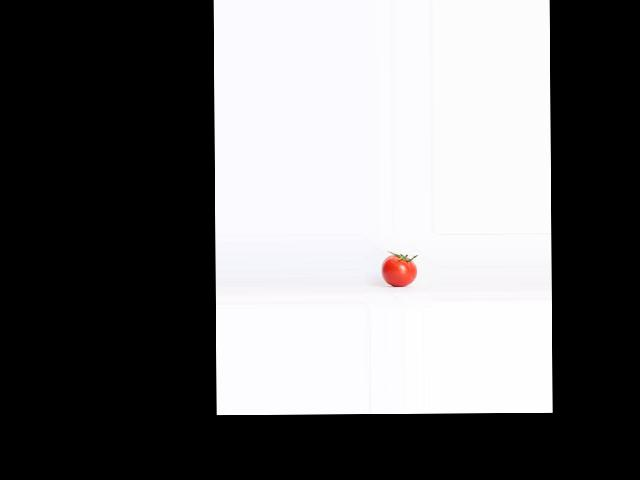tomato: (380, 255, 416, 287)
